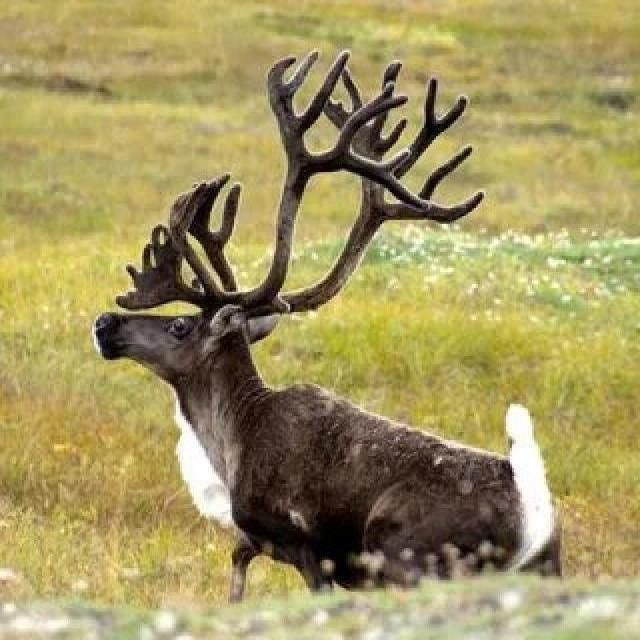deer: (71, 57, 599, 587)
